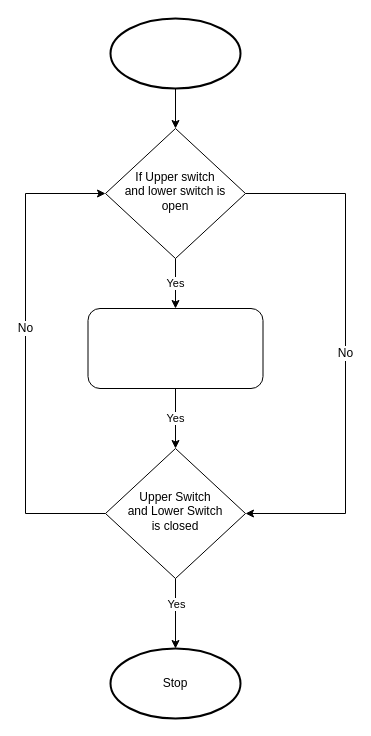
Image size: 371x736. Some labels were removed from this diagram. The centre of each missing label's shape, as x and y in pixels:
DC Motor starts to pump water in the tank: point (175, 348)
Start: point (175, 53)
